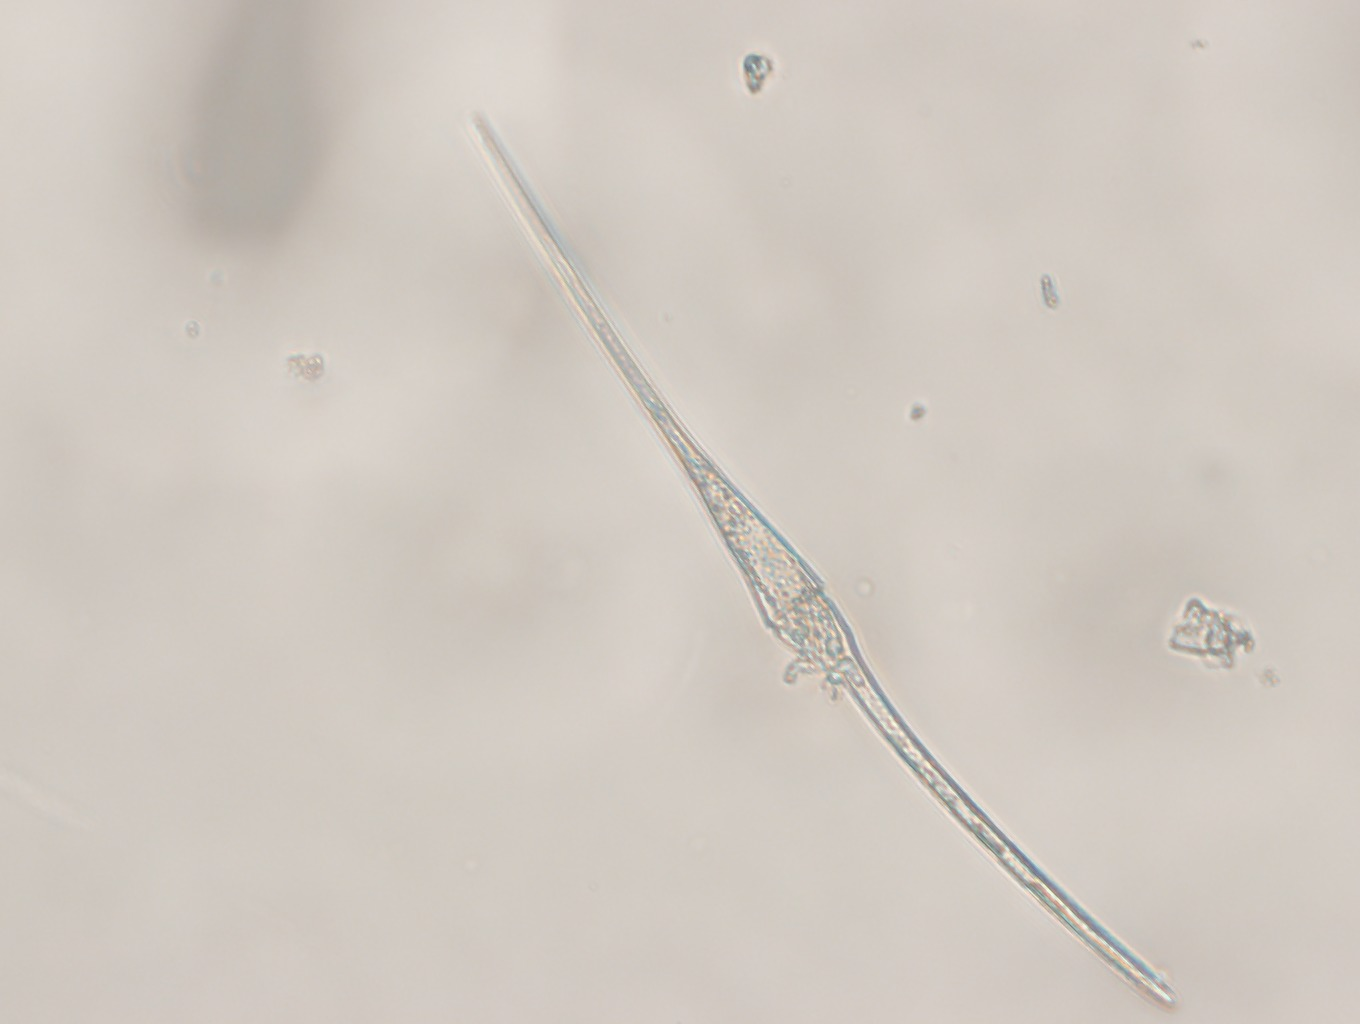ceratium fusus: (466, 109, 1177, 1016)
